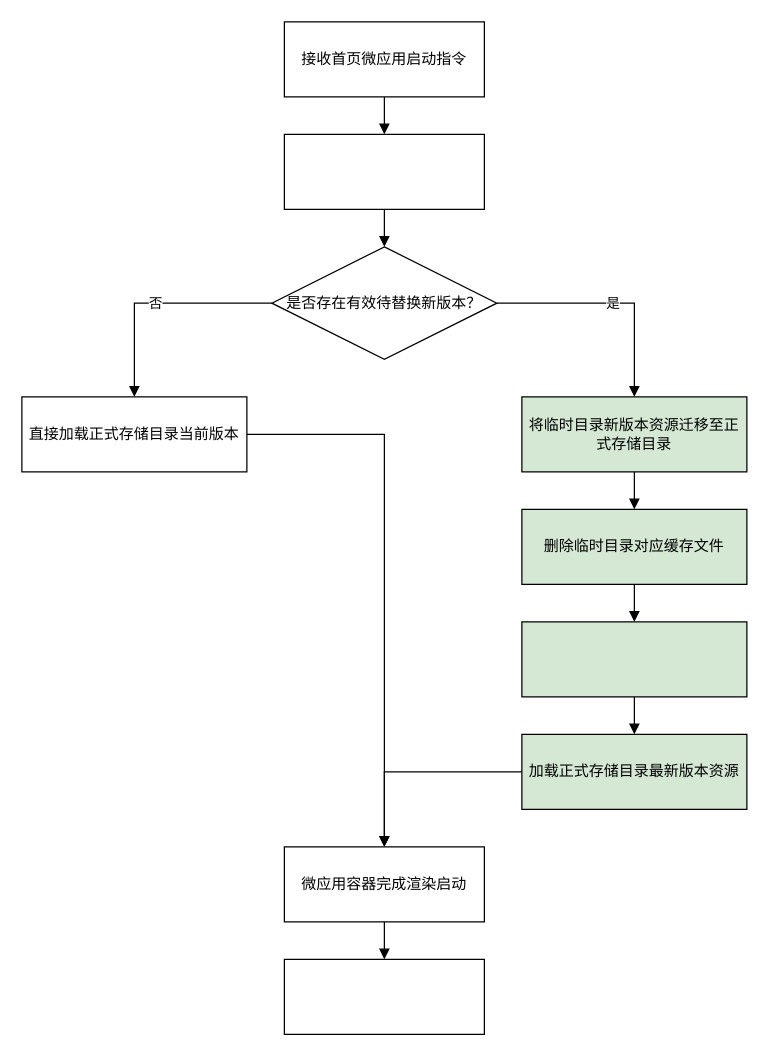
This 769x1056 diagram has some shape labels left out. The shapes that lost their labels are listed below. From the top down, each one's box as (x1, y1, x2, y2) in pixels, then its label:
(283, 133, 484, 209): 扫描对应微应用的临时存储目录
(521, 621, 747, 697): 清理正式目录低版本冗余资源
(283, 958, 484, 1034): 流程结束
